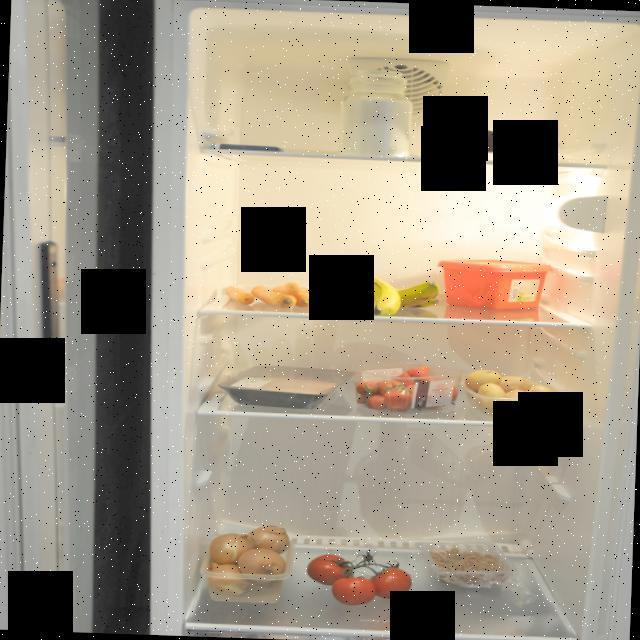banana: (321, 270, 442, 320)
butter: (437, 253, 553, 312)
carrot: (222, 277, 332, 314)
cheese: (446, 126, 502, 156)
chicken_breast: (228, 368, 340, 408)
chocolate: (202, 139, 290, 155)
onion: (197, 522, 293, 608)
potato: (460, 370, 568, 422)
shrimp: (426, 543, 512, 591)
strawberries: (352, 363, 462, 416)
sugar: (337, 68, 414, 160)
tomato: (304, 549, 414, 609)
